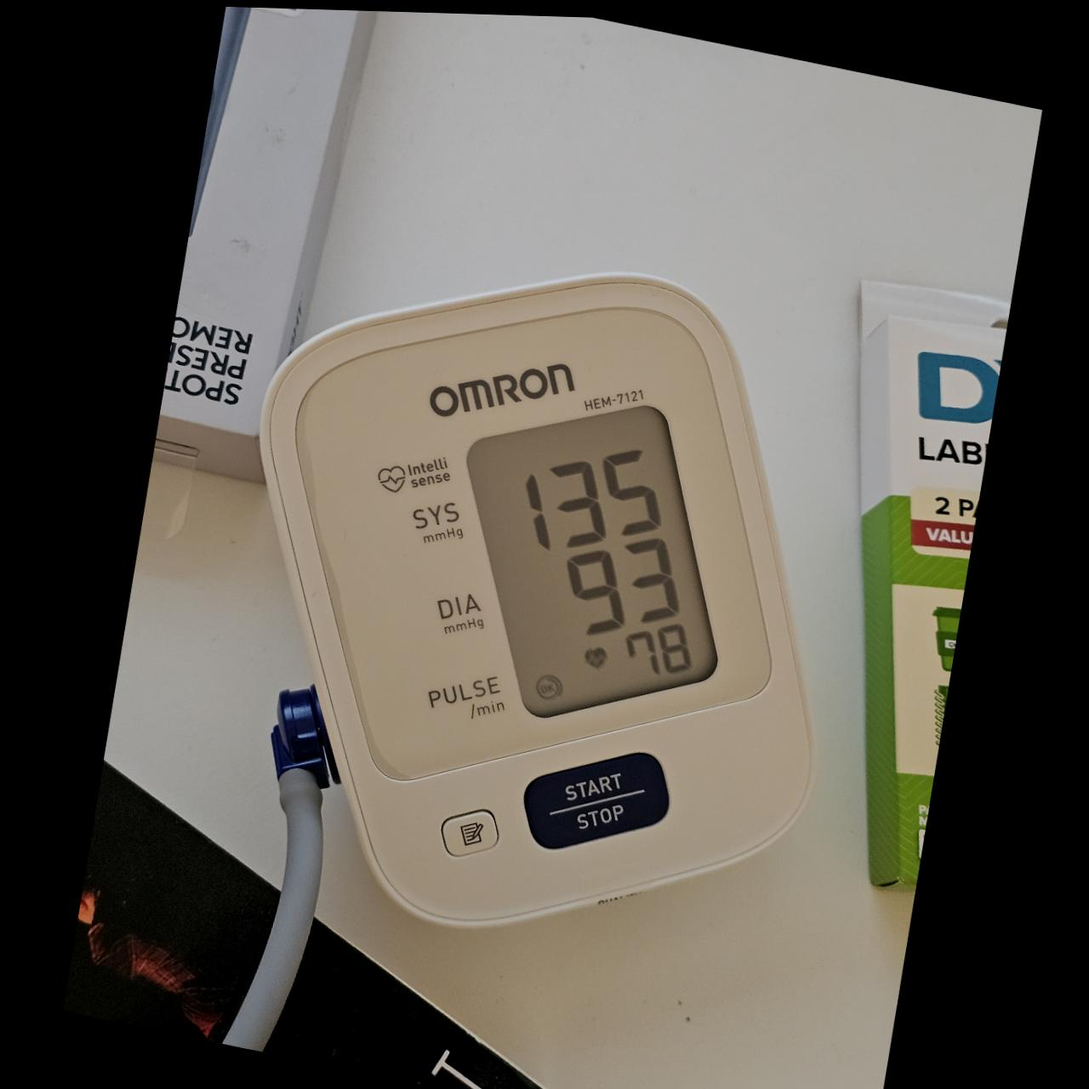lcd display: (420, 367, 765, 758)
